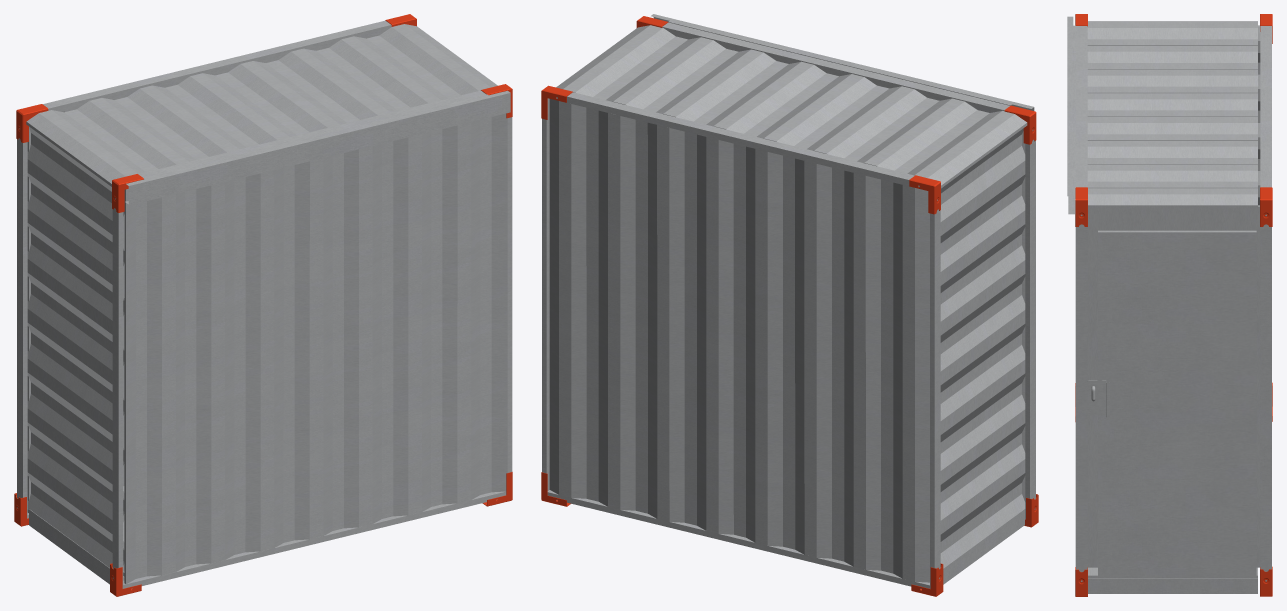
Rendered from 2M_closed.glb.
3 renders of one model, left to right at view 1: azimuth 30°, elevation 25°; view 2: azimuth 150°, elevation 25°; view 3: azimuth 270°, elevation 25°, orthographic. The views are drawn at different scales.
Visible parts, largest first — view 1: backMetalSheet; view 2: backMetalSheet; view 3: backMetalSheet.
Part boxes in pixels (<box>): backMetalSheet: <box>14,14,512,596</box>; backMetalSheet: <box>541,14,1038,596</box>; backMetalSheet: <box>1067,14,1272,596</box>.
Bounding box in the file's own units: 23.47 × 23.06 × 10.78.
Materials: 2 (1 with a texture image).
